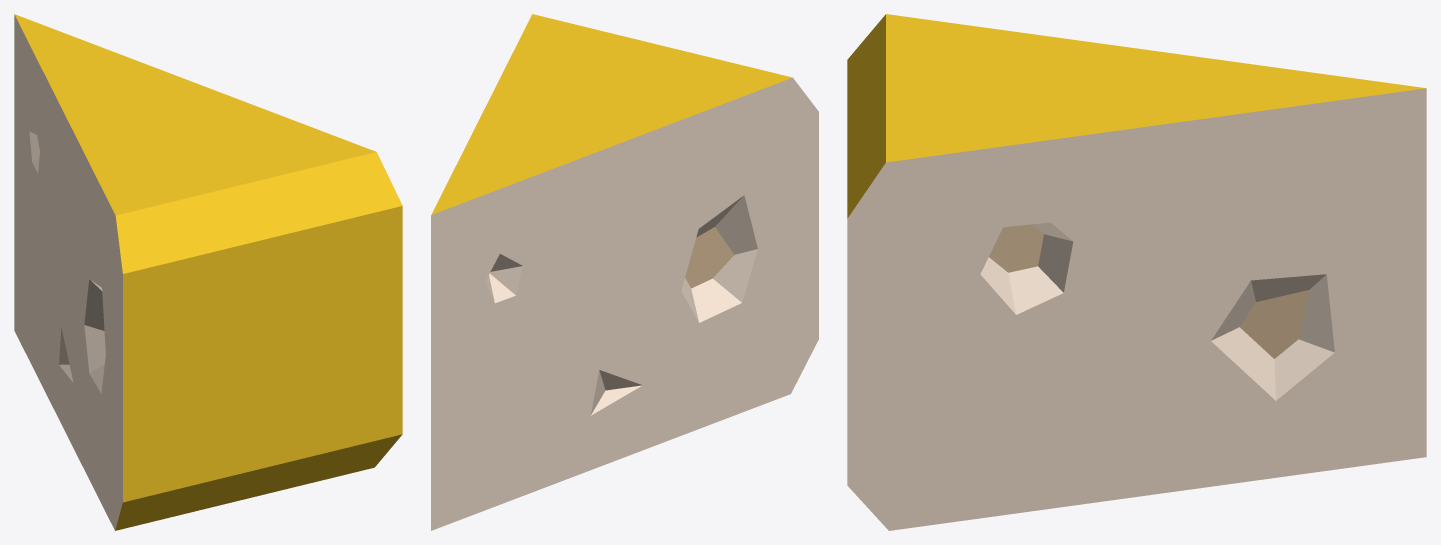
The model's file is cheese-slice.glb.
The picture shows the model from 3 angles, left to right: view 1: azimuth 30°, elevation 25°; view 2: azimuth 150°, elevation 25°; view 3: azimuth 270°, elevation 25°; orthographic projection. The views are drawn at different scales.
Parts seen in each view (by area): view 1: cheese-slice; view 2: cheese-slice; view 3: cheese-slice.
Boxes of the visible parts, x1=… form: cheese-slice: x1=14, y1=14, x2=402, y2=530; cheese-slice: x1=431, y1=14, x2=818, y2=530; cheese-slice: x1=847, y1=14, x2=1426, y2=530.
Size of the model in its own units: 0.1236 by 0.1336 by 0.1902.
1 material, 1 textured.
